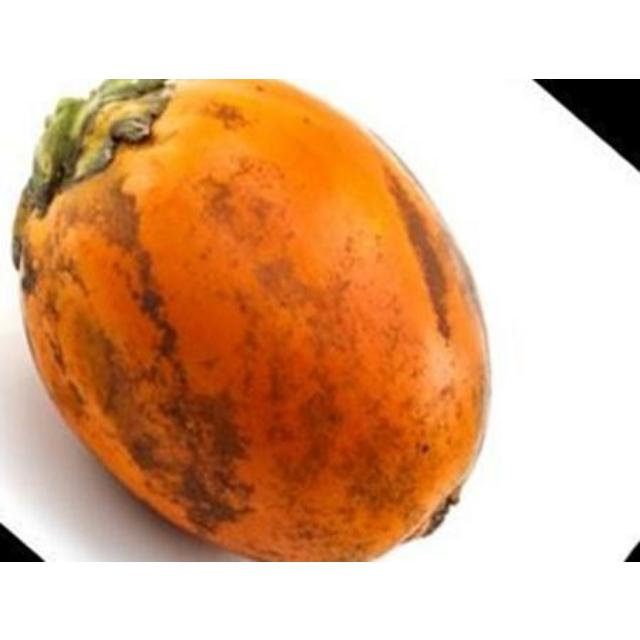good: (11, 78, 492, 560)
